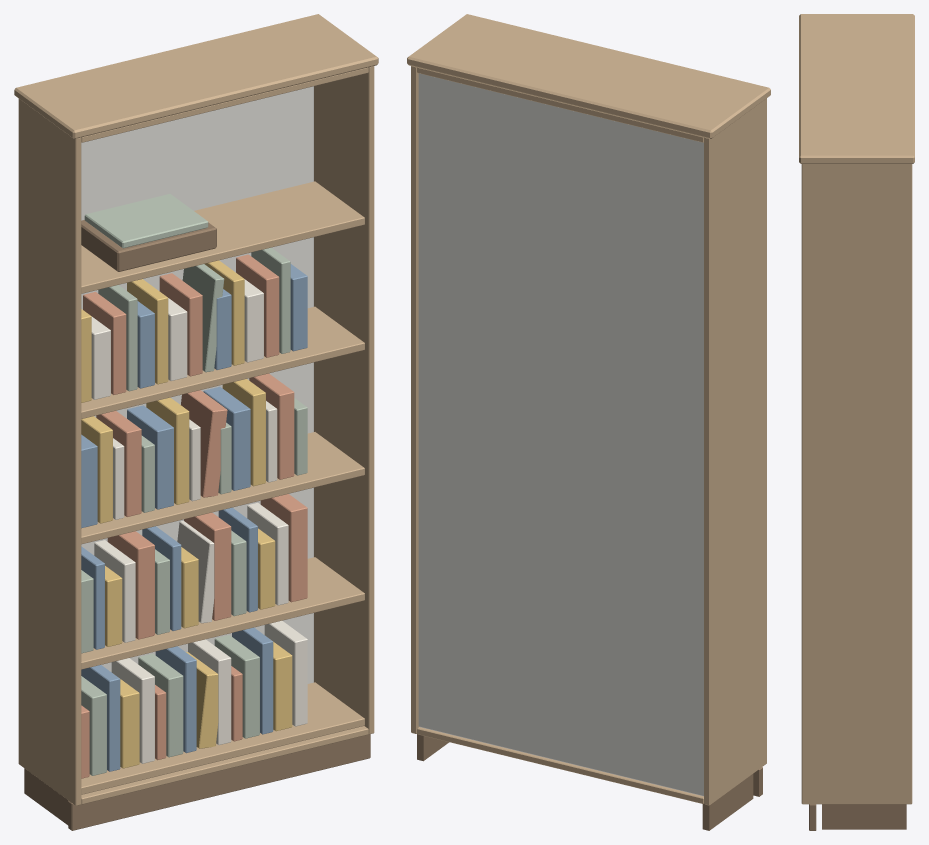
The model's file is model-lounge-furniture-bookshelf-1d1153178630.glb.
3 views of the same model, side by side, from view 1: azimuth 30°, elevation 25°; view 2: azimuth 150°, elevation 25°; view 3: azimuth 270°, elevation 25° (orthographic). The views are drawn at different scales.
Visible parts, largest first — view 1: bookcase-5-shelf; view 2: bookcase-5-shelf; view 3: bookcase-5-shelf.
Part boxes in pixels (box(x1,y1,x2,y2)): bookcase-5-shelf: box(14, 14, 378, 830); bookcase-5-shelf: box(407, 14, 770, 830); bookcase-5-shelf: box(799, 14, 914, 830).
Size of the model in its own units: 0.9199 by 2.03 by 0.3139.
